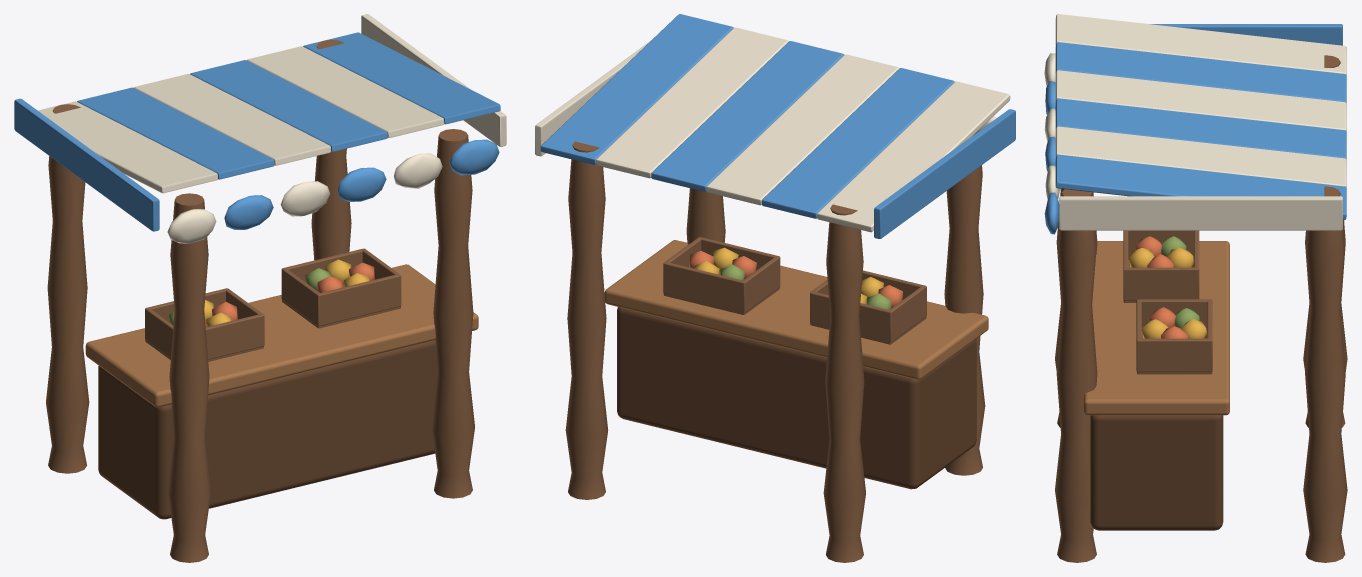
File: blue_market_stall.glb
The picture shows the model from 3 angles, left to right: view 1: azimuth 30°, elevation 25°; view 2: azimuth 150°, elevation 25°; view 3: azimuth 270°, elevation 25°; orthographic projection. The views are drawn at different scales.
Visible parts, largest first — view 1: blue_market_stall; view 2: blue_market_stall; view 3: blue_market_stall.
Boxes of the visible parts, x1=… form: blue_market_stall: x1=14, y1=14, x2=506, y2=562; blue_market_stall: x1=535, y1=14, x2=1015, y2=562; blue_market_stall: x1=1044, y1=14, x2=1347, y2=562.
Bounding box in the file's own units: 0.92 × 0.9529 × 0.669.
